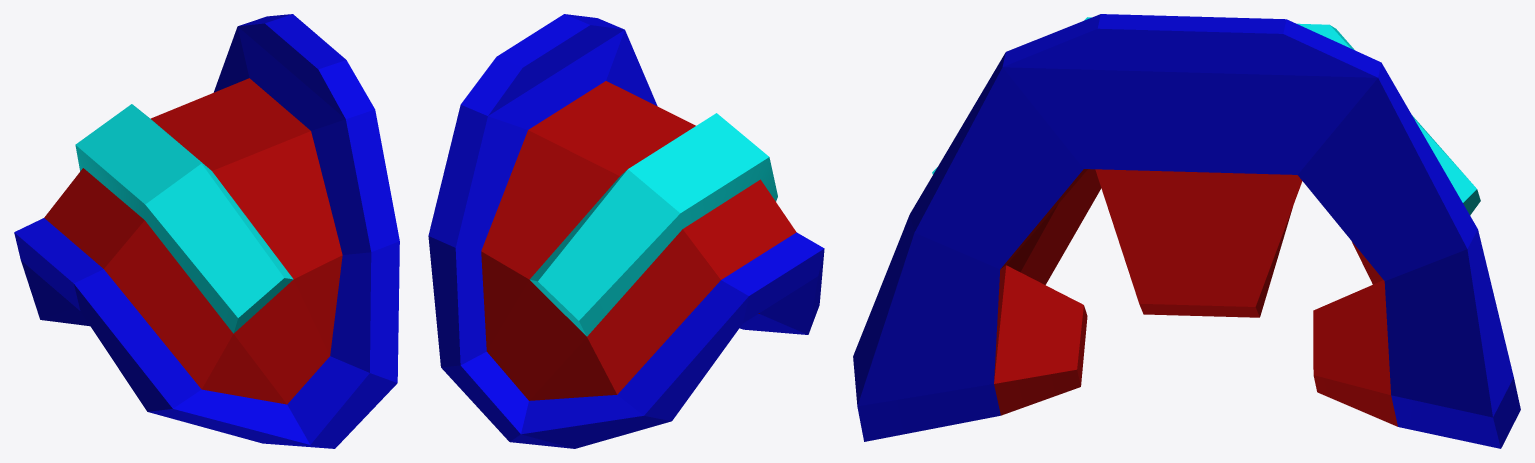
Rendered from Chr_ShoulderAttachRight_Static_11.fbx.
3 views of the same model, side by side, from view 1: azimuth 30°, elevation 25°; view 2: azimuth 150°, elevation 25°; view 3: azimuth 270°, elevation 25° (orthographic). The views are drawn at different scales.
Parts seen in each view (by area): view 1: Chr_ShoulderAttachRight_11; view 2: Chr_ShoulderAttachRight_11; view 3: Chr_ShoulderAttachRight_11.
Part boxes in pixels (x1,y1,x2,y2): Chr_ShoulderAttachRight_11: (14,14,399,448); Chr_ShoulderAttachRight_11: (428,14,824,448); Chr_ShoulderAttachRight_11: (853,14,1520,448).
Size of the model in its own units: 25.88 by 28.29 by 34.74.
